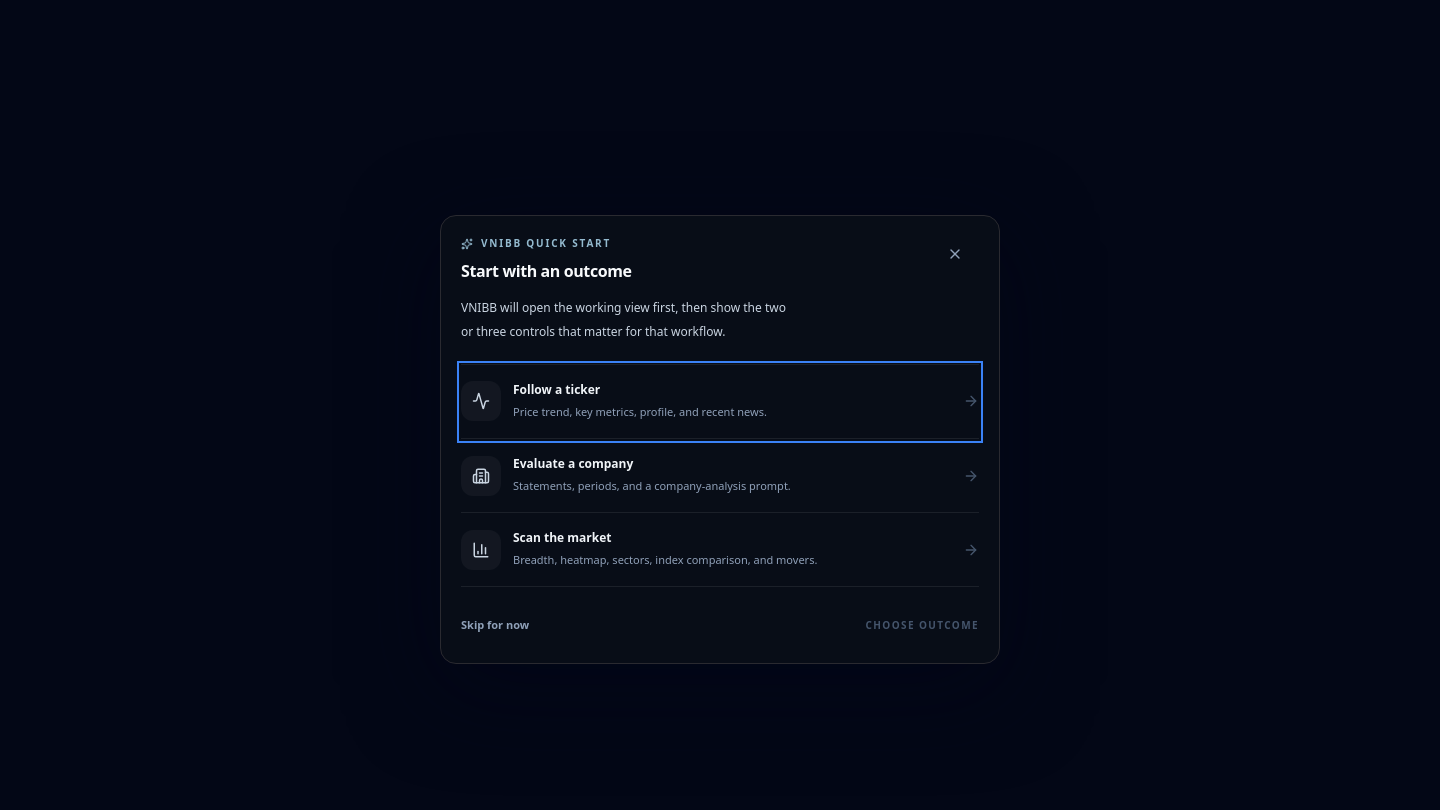
Test case: OnboardingWalkthrough › validates a ticker before routing
Click the button "Follow a ticker". click: (720, 402)
box: [461,365,979,439]
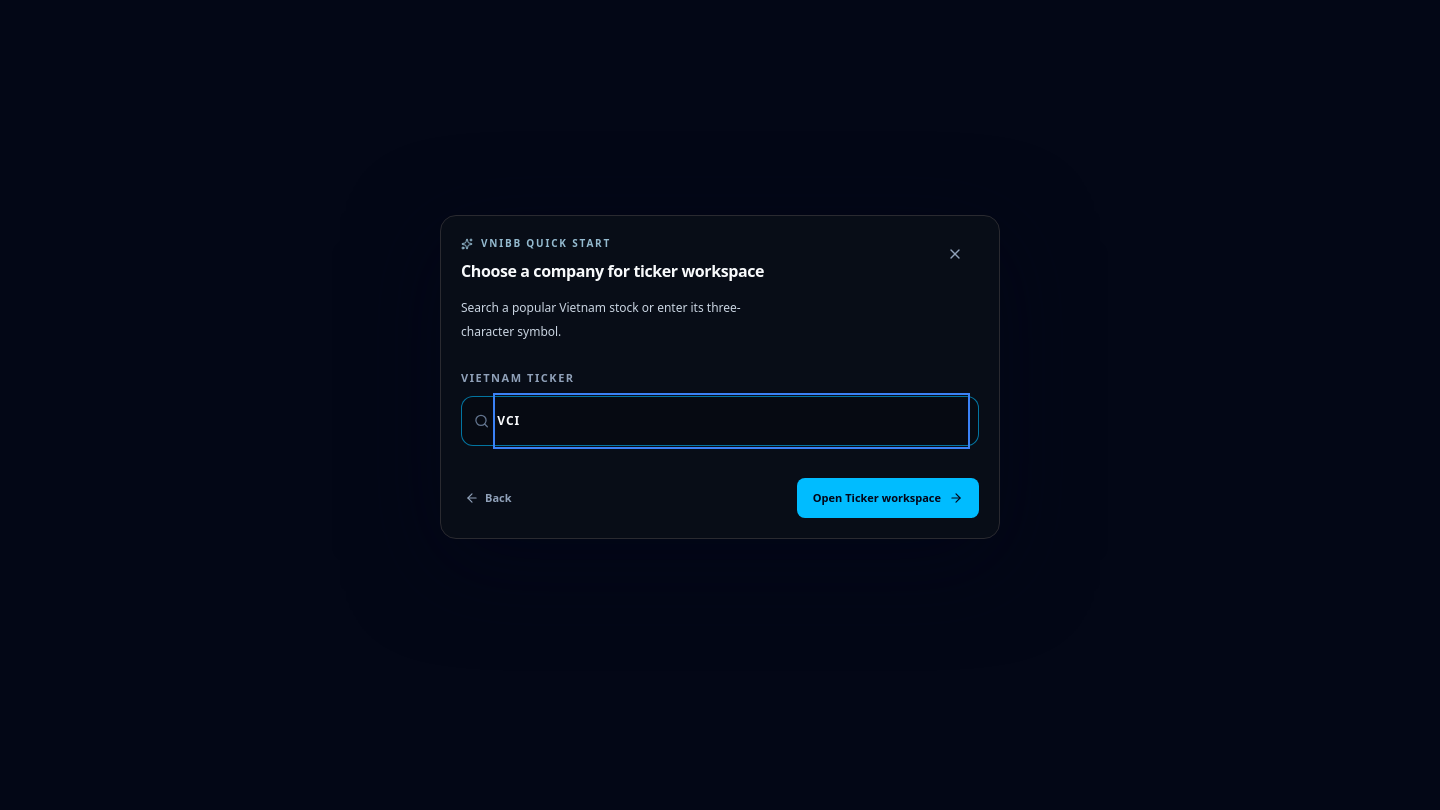
Replace the text in the field labelled "Vietnam ticker" with "ab". click: (732, 421)
box: [497,397,966,445]
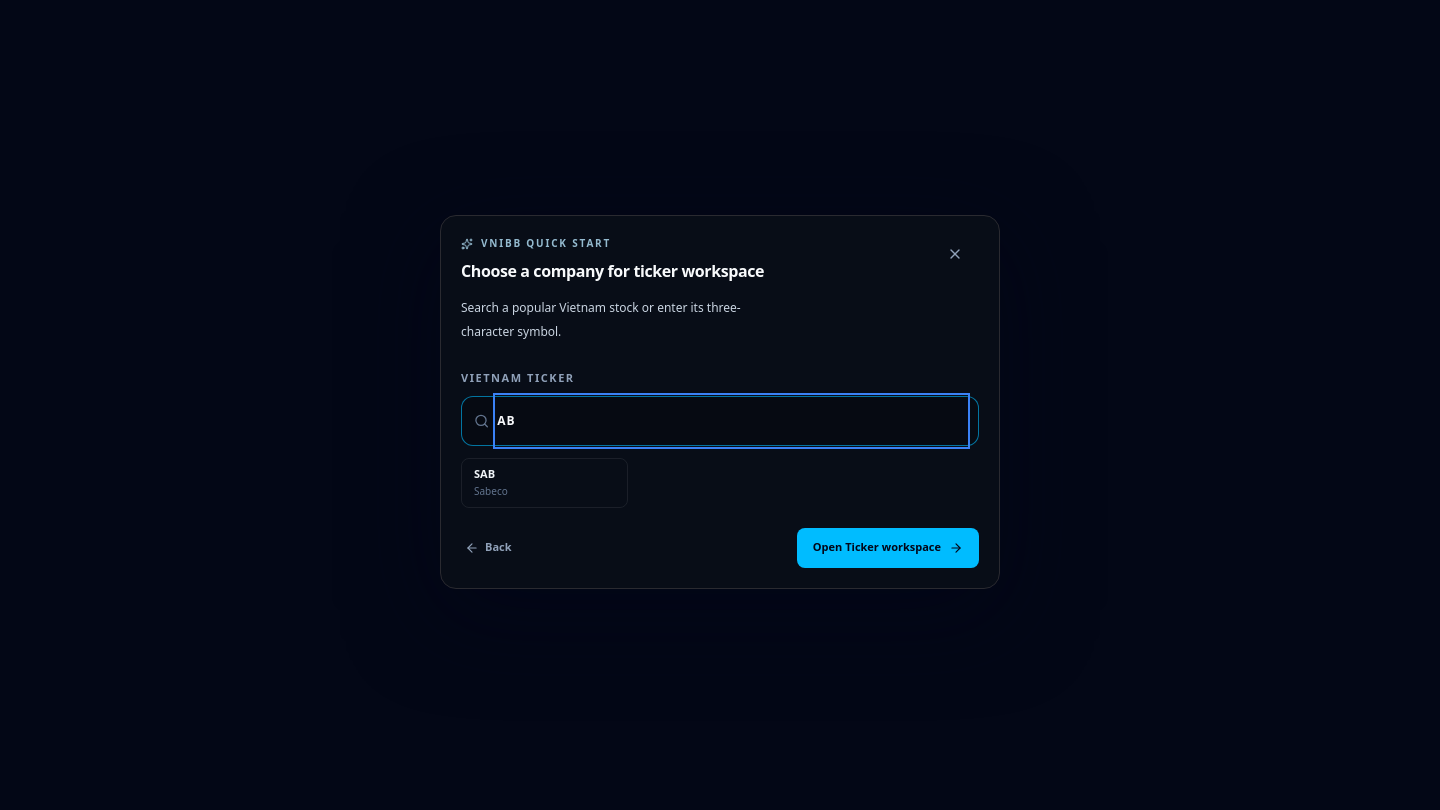
Click the button "Open Ticker workspace". click: (888, 548)
box: [797,528,979,568]
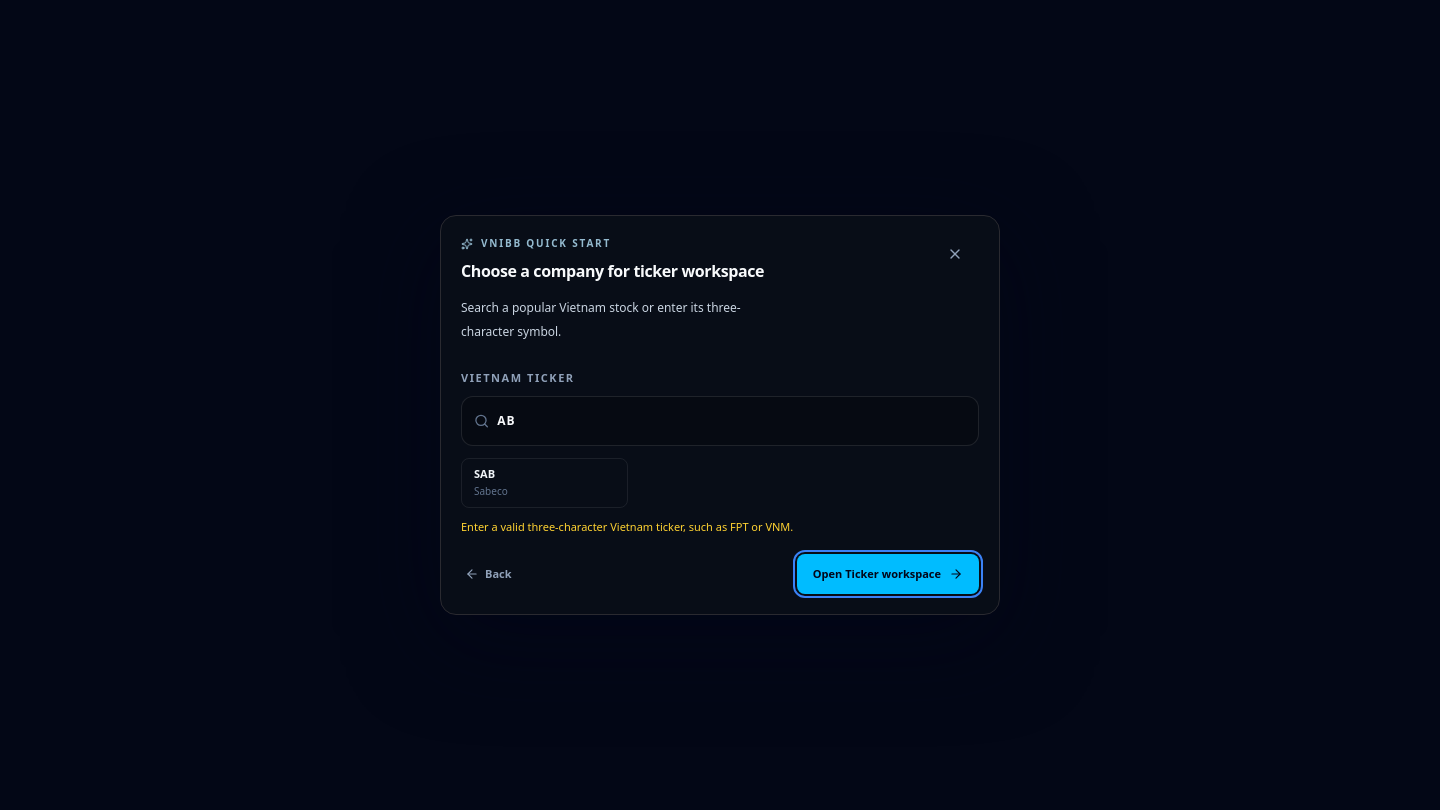
Expected: the message shows "valid three-character Vietnam ticker", [461,518,793,534]
